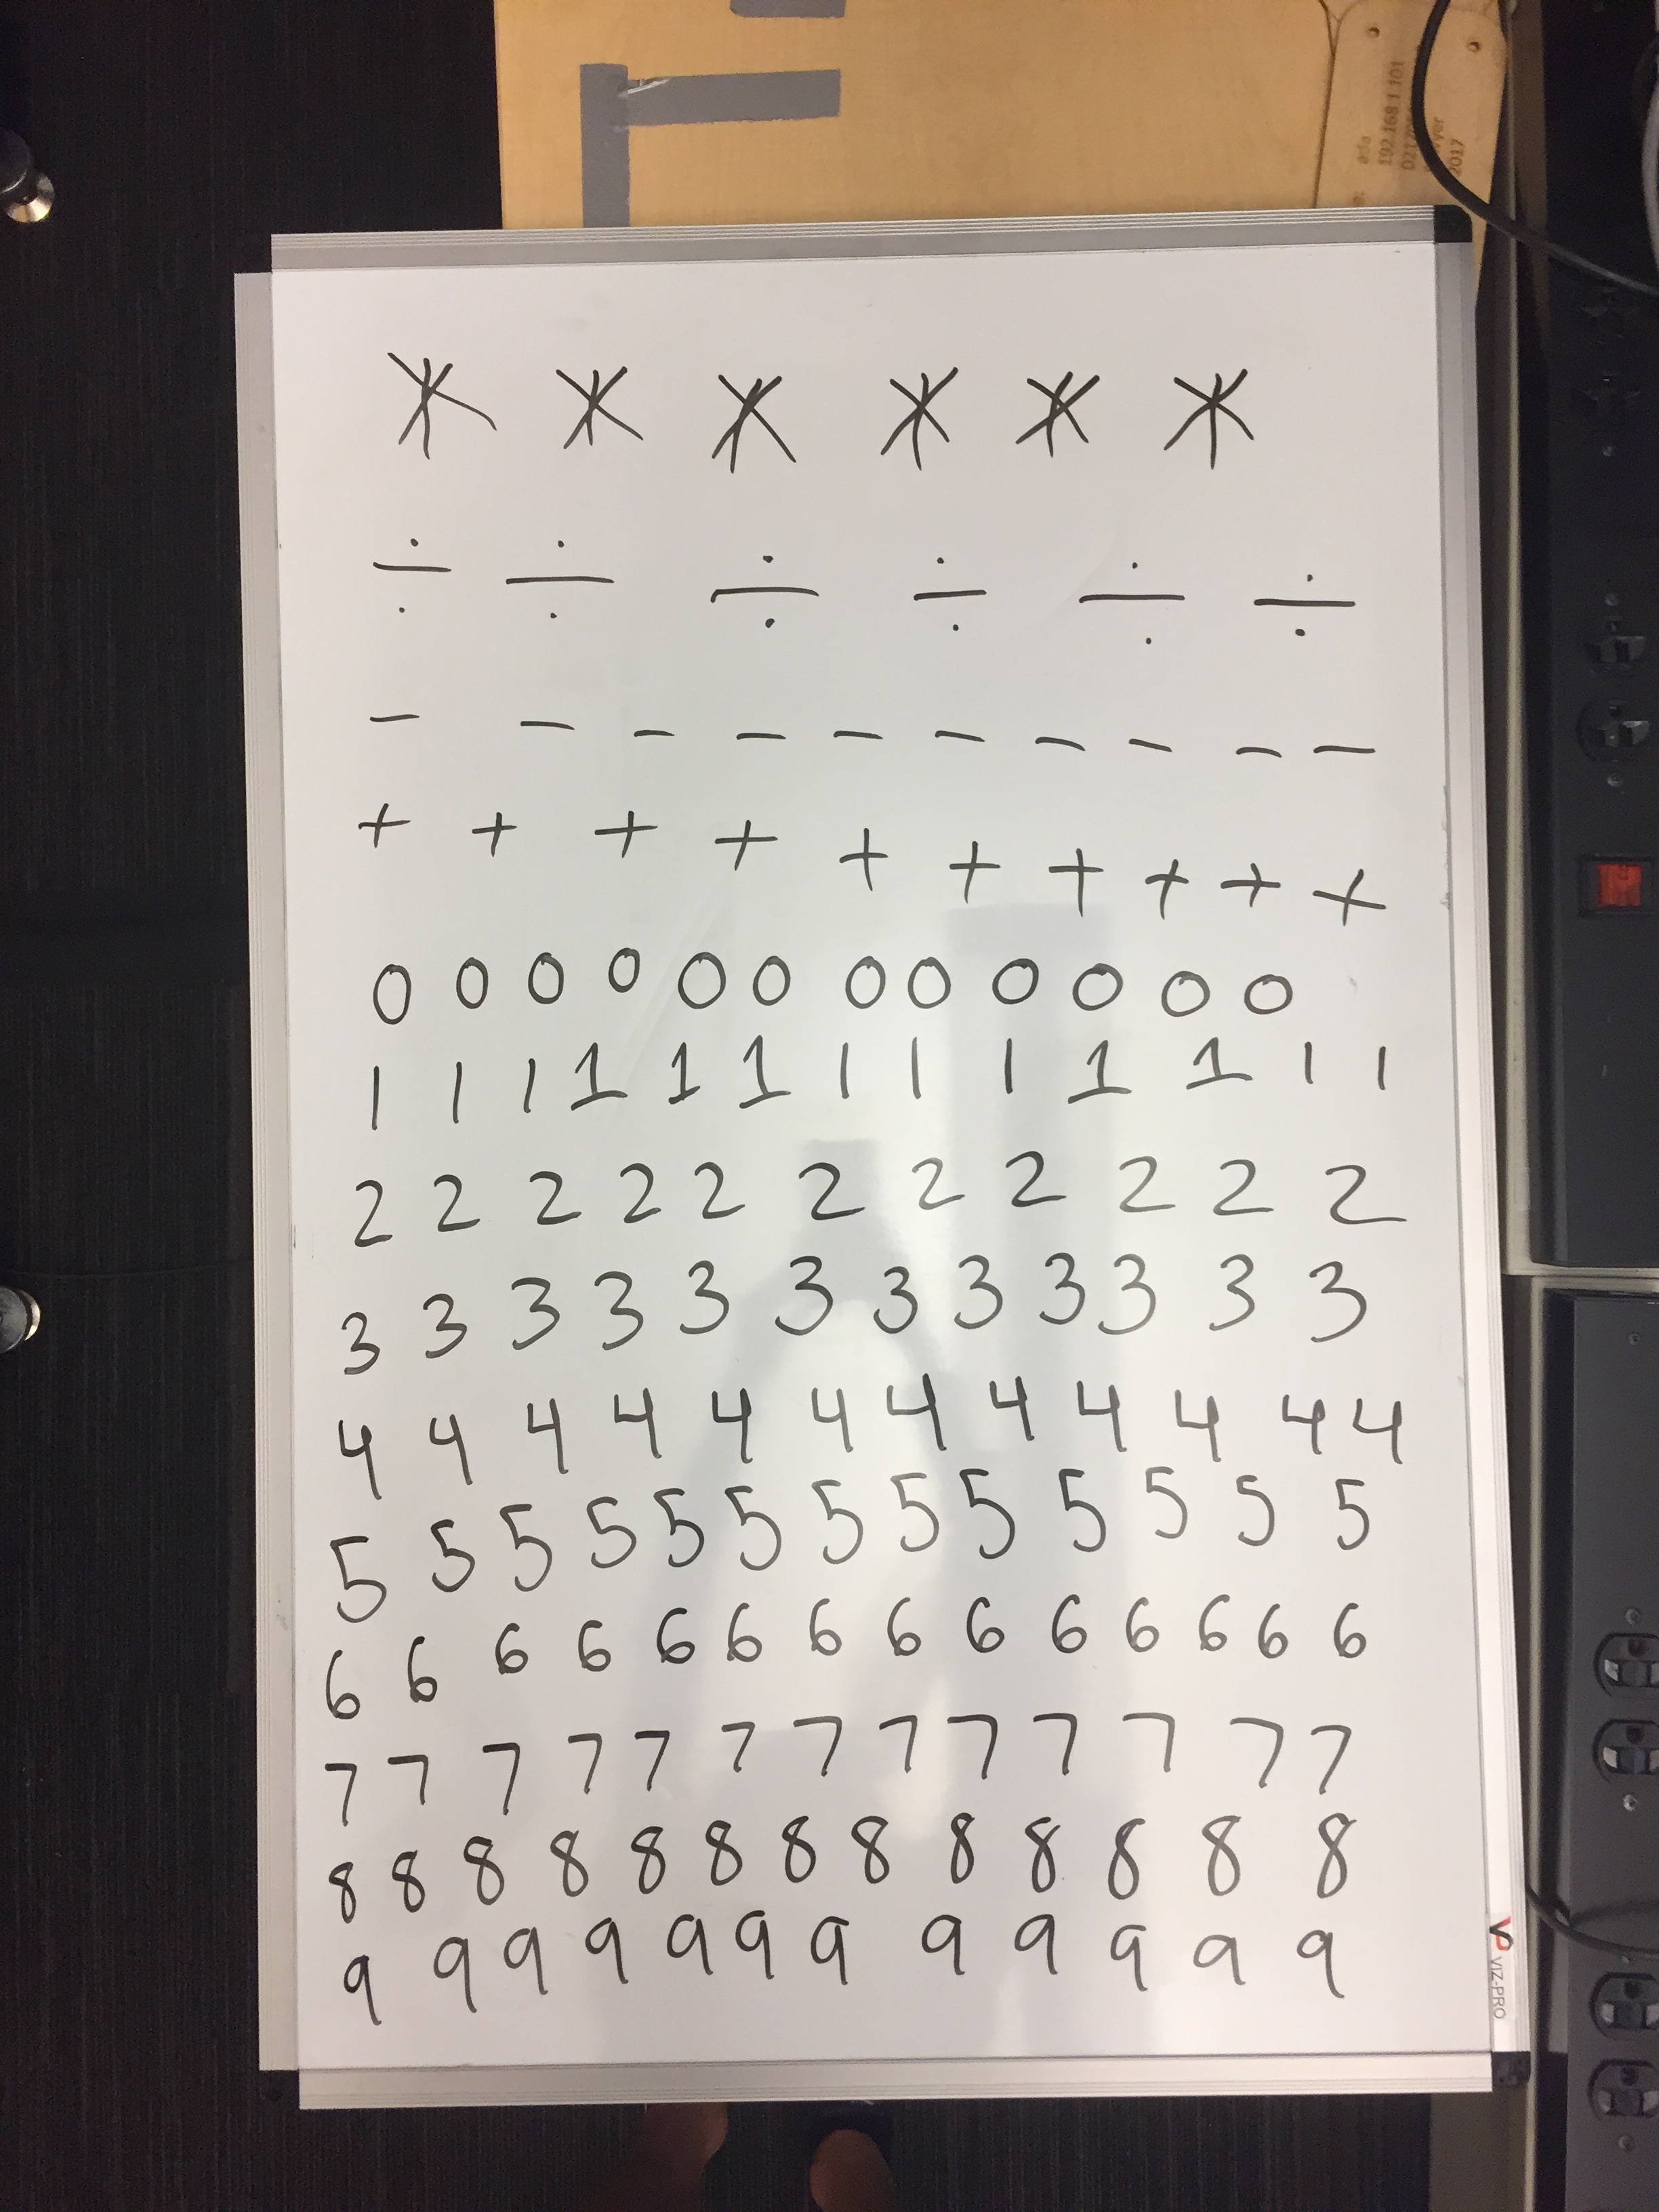+: (1290, 841, 1406, 948), (1124, 831, 1206, 934), (1213, 834, 1297, 930), (331, 787, 432, 866), (1040, 827, 1121, 923), (575, 794, 667, 876), (701, 805, 793, 887), (826, 815, 908, 902), (934, 822, 1012, 913), (457, 794, 532, 873)
-: (1297, 712, 1399, 784), (349, 686, 439, 761), (500, 693, 596, 761), (1019, 709, 1105, 777), (918, 705, 999, 770), (1110, 712, 1188, 777), (613, 702, 694, 765), (819, 705, 897, 766), (1220, 730, 1300, 787), (721, 712, 796, 765)
0: (660, 930, 744, 1031), (345, 944, 432, 1038), (507, 927, 582, 1028), (432, 937, 511, 1028), (890, 941, 969, 1028), (983, 941, 1060, 1028), (589, 927, 657, 1017), (823, 941, 897, 1021), (1060, 944, 1134, 1024), (739, 937, 809, 1014), (1155, 960, 1227, 1031), (1232, 956, 1307, 1024)
1: (1168, 1017, 1267, 1123), (1060, 1024, 1145, 1127), (725, 1017, 802, 1123), (561, 1028, 640, 1127), (1277, 1014, 1338, 1120), (342, 1052, 410, 1146), (1351, 1028, 1419, 1116), (653, 1024, 711, 1120), (985, 1024, 1040, 1120), (890, 1024, 941, 1127), (430, 1045, 484, 1139), (504, 1042, 558, 1134), (823, 1014, 866, 1120)
2: (1314, 1146, 1412, 1249), (786, 1146, 880, 1245), (335, 1160, 413, 1268), (680, 1139, 758, 1242), (1199, 1146, 1286, 1235), (416, 1153, 491, 1252), (992, 1137, 1077, 1224), (901, 1139, 979, 1231), (518, 1150, 593, 1245), (1107, 1139, 1182, 1235), (610, 1143, 674, 1238)
3: (1297, 1242, 1382, 1364), (765, 1242, 847, 1357), (1087, 1245, 1162, 1357), (586, 1256, 657, 1367), (945, 1242, 1012, 1353), (1026, 1238, 1094, 1350), (1199, 1242, 1267, 1353), (495, 1261, 568, 1364), (857, 1256, 934, 1353), (406, 1275, 474, 1385), (674, 1245, 739, 1360), (324, 1299, 392, 1393)
4: (504, 1386, 596, 1489), (866, 1364, 962, 1461), (403, 1397, 491, 1500), (596, 1378, 683, 1479), (690, 1367, 769, 1479), (328, 1407, 403, 1522), (1063, 1360, 1141, 1458), (1164, 1378, 1243, 1468), (979, 1360, 1053, 1454), (1349, 1385, 1422, 1479), (796, 1371, 866, 1465), (1267, 1378, 1335, 1461)
5: (484, 1479, 565, 1608), (948, 1454, 1030, 1580), (714, 1465, 793, 1587), (406, 1496, 488, 1611), (873, 1461, 955, 1576), (310, 1522, 396, 1632), (1040, 1451, 1121, 1568), (793, 1461, 873, 1576), (572, 1468, 647, 1580), (643, 1468, 718, 1580), (1317, 1454, 1389, 1564), (1131, 1442, 1199, 1554), (1227, 1451, 1290, 1564)
6: (301, 1632, 375, 1740), (941, 1580, 1026, 1672), (633, 1583, 711, 1683), (863, 1576, 938, 1679), (786, 1580, 863, 1679), (1107, 1571, 1178, 1676), (1178, 1568, 1246, 1676), (1033, 1573, 1107, 1672), (1317, 1576, 1389, 1676), (389, 1625, 460, 1723), (704, 1587, 779, 1679), (1243, 1573, 1307, 1679), (565, 1597, 633, 1689), (481, 1608, 552, 1693)
7: (1107, 1693, 1199, 1794), (934, 1689, 1019, 1791), (467, 1719, 542, 1831), (366, 1733, 446, 1827), (301, 1747, 378, 1841), (1216, 1696, 1290, 1794), (552, 1709, 617, 1815), (866, 1689, 931, 1787), (789, 1702, 857, 1794), (617, 1709, 680, 1808), (1300, 1712, 1364, 1808), (1023, 1696, 1091, 1784), (704, 1705, 765, 1797)
8: (1290, 1797, 1378, 1919), (1182, 1797, 1260, 1912), (836, 1784, 904, 1902), (1094, 1797, 1164, 1912), (918, 1784, 988, 1895), (532, 1808, 606, 1909), (762, 1794, 833, 1898), (1006, 1804, 1077, 1905), (375, 1831, 443, 1930), (453, 1818, 525, 1912), (690, 1801, 755, 1898), (622, 1804, 680, 1909), (310, 1844, 373, 1937)
9: (1091, 1902, 1175, 2013), (416, 1916, 497, 2031), (488, 1905, 568, 2017), (1281, 1916, 1371, 2013), (653, 1892, 732, 1998), (718, 1892, 796, 1998), (317, 1940, 403, 2031), (1182, 1916, 1263, 2010), (575, 1902, 650, 2001), (1009, 1898, 1080, 2001), (805, 1898, 873, 2005), (915, 1895, 985, 1998)
div: (495, 516, 626, 648), (1066, 543, 1199, 658), (697, 540, 836, 648), (349, 510, 460, 639), (1243, 550, 1371, 655), (897, 543, 1002, 644)
x: (362, 329, 518, 489), (664, 329, 812, 496), (521, 329, 657, 486), (854, 336, 983, 486), (1155, 336, 1274, 489), (1002, 347, 1114, 479)
